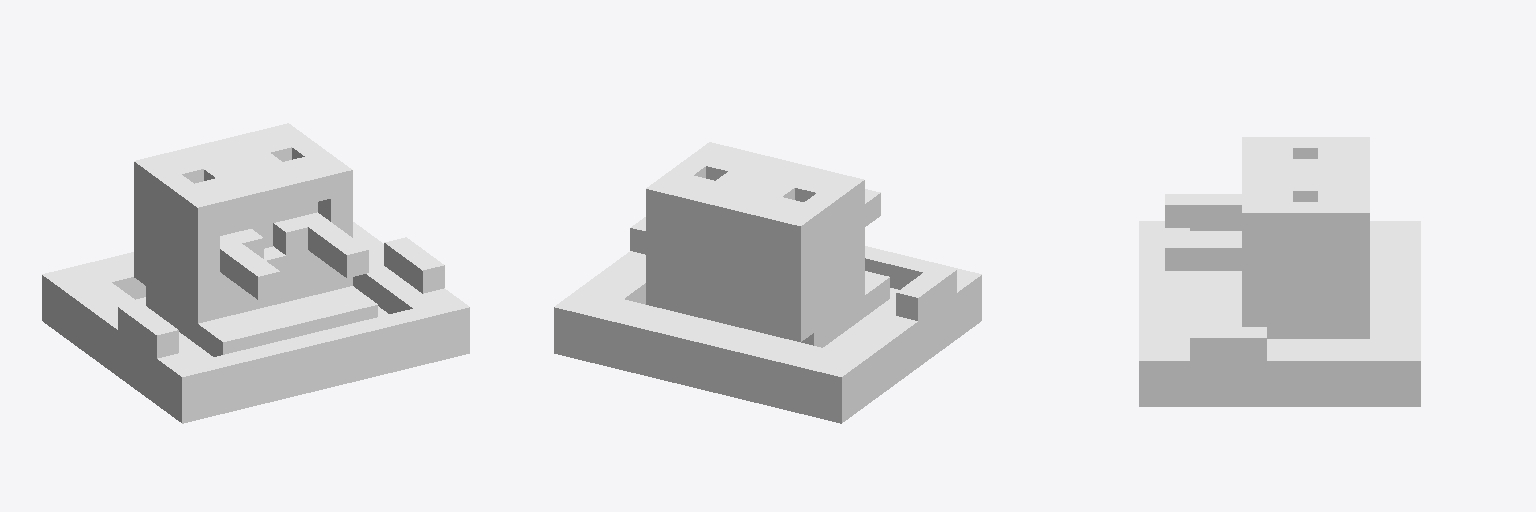
The model's file is shop_turret3.obj.
3 views of the same model, side by side, from view 1: azimuth 30°, elevation 25°; view 2: azimuth 150°, elevation 25°; view 3: azimuth 270°, elevation 25° (orthographic).
Parts seen in each view (by area): view 1: object 1; view 2: object 1; view 3: object 1.
Boxes of the visible parts, x1=… form: object 1: x1=42, y1=123, x2=469, y2=423; object 1: x1=554, y1=142, x2=981, y2=423; object 1: x1=1139, y1=137, x2=1420, y2=406.
Bounding box in the file's own units: 1.3 × 0.7 × 1.1.